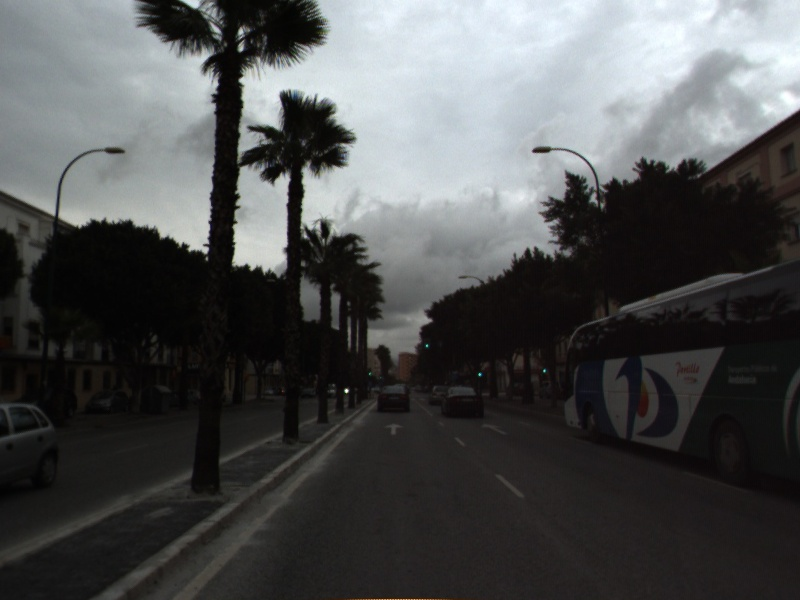STRAIGHT: (479, 421, 510, 437), (382, 421, 407, 437)
